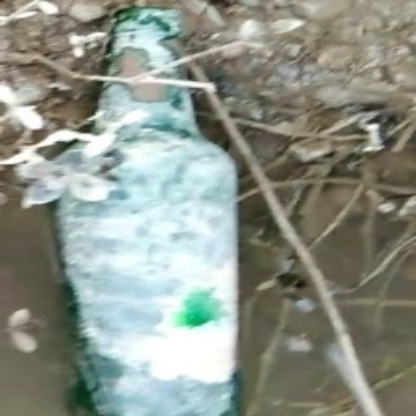bottle: (42, 6, 249, 416)
